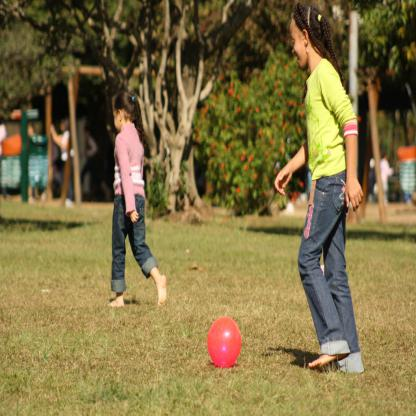Ball: (207, 316, 240, 367)
